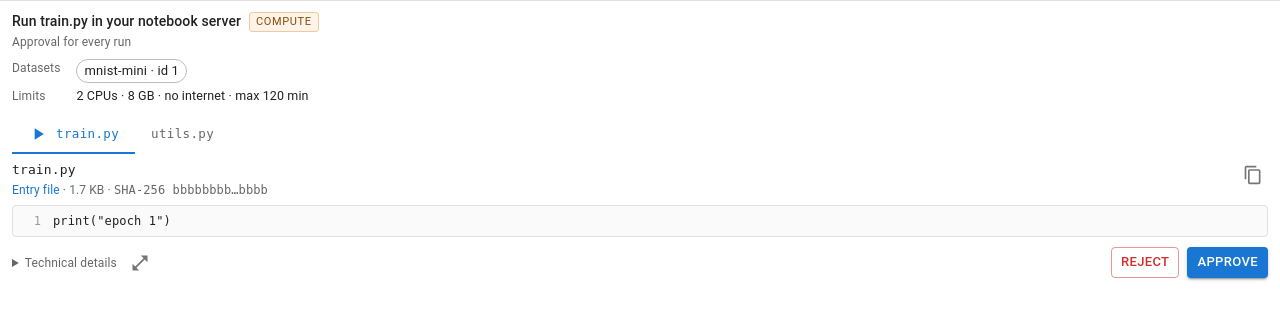
Test: the pending approval › switches to another file on a click on its tab
Click the tab "utils.py".
click(183, 134)  # box [135,114,230,154]
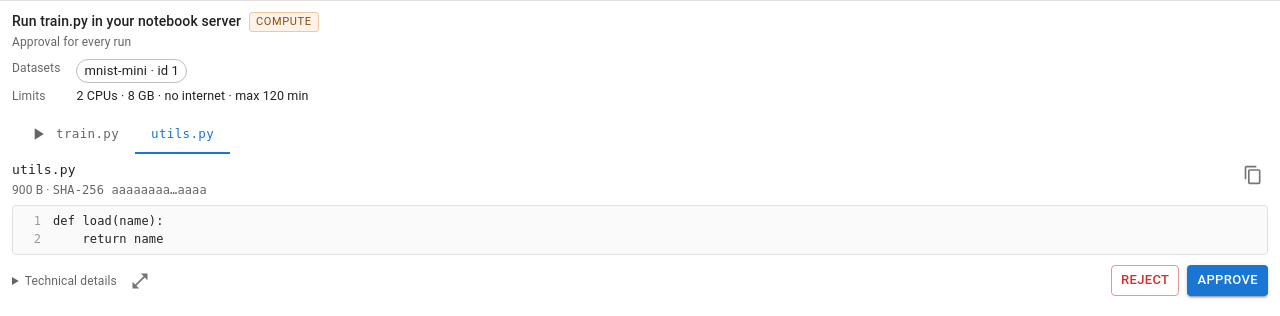
Result: the text "def load(name):" is shown at [53,212,164,230]
Result: the text "return name" is shown at [53,230,164,248]
